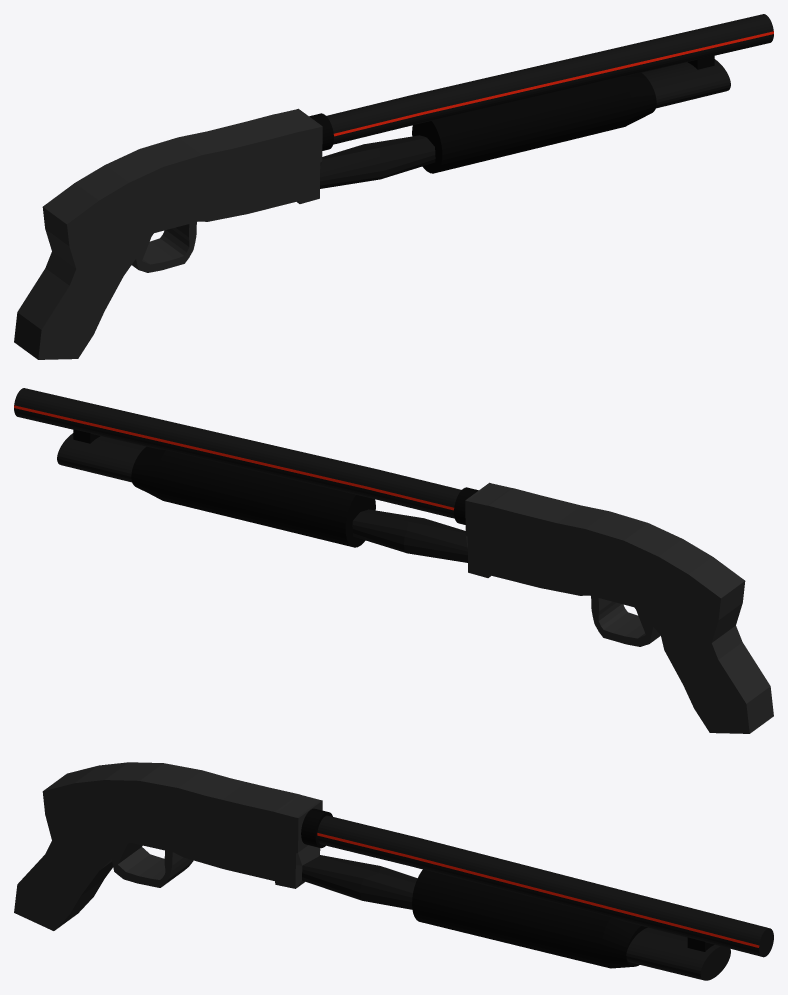
The model's file is Shotgun1.fbx.
3 views of the same model, one above another, from view 1: azimuth 30°, elevation 25°; view 2: azimuth 150°, elevation 25°; view 3: azimuth 330°, elevation 25° (orthographic).
Parts seen in each view (by area): view 1: Cube; view 2: Cube; view 3: Cube.
Part boxes in pixels (x1,y1,x2,y2): Cube: (14,14,773,359); Cube: (14,388,773,733); Cube: (14,762,773,980).
Size of the model in its own units: 493 by 110 by 35.03.
